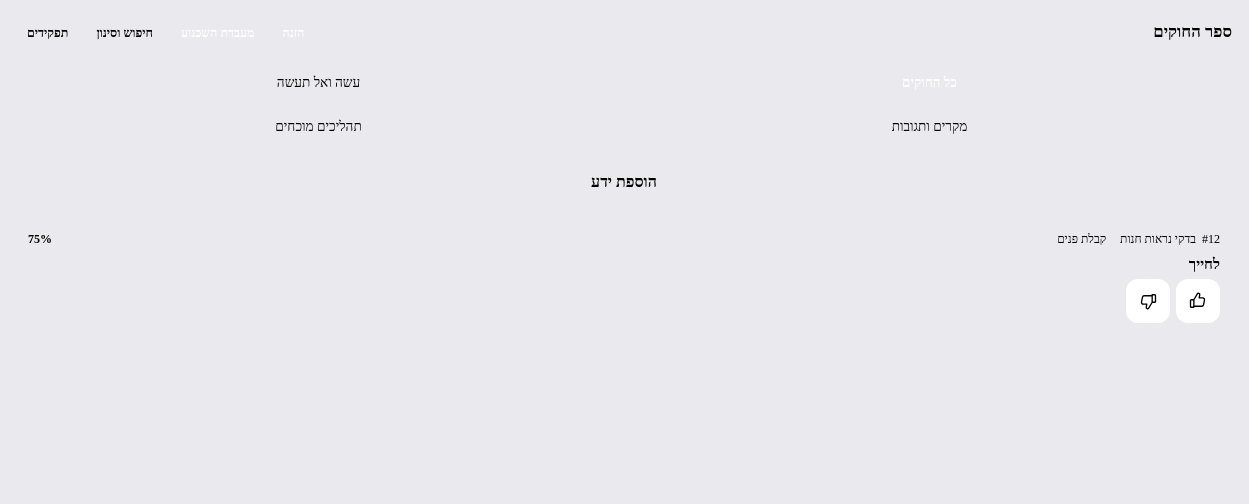
Scenario: what an owner gets on the same list › hides the owner filters on the views they cannot filter
The image size is (1249, 504).
Click the button "חיפוש וסינון". click: [125, 33]
box: [85,16,164,50]
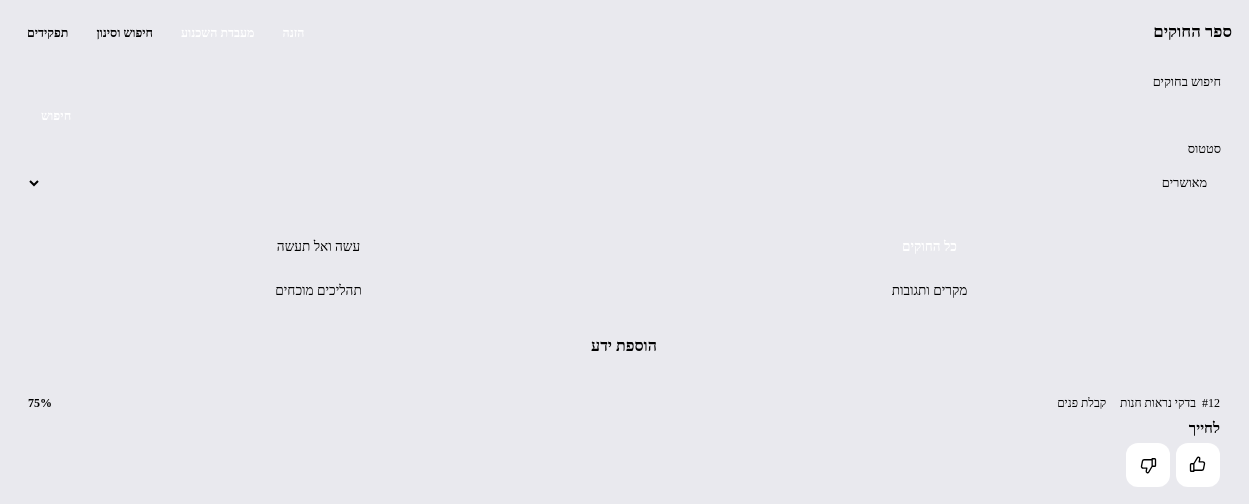
Click the tab "תהליכים מוכחים". click: [318, 291]
box: [16,272,621,310]
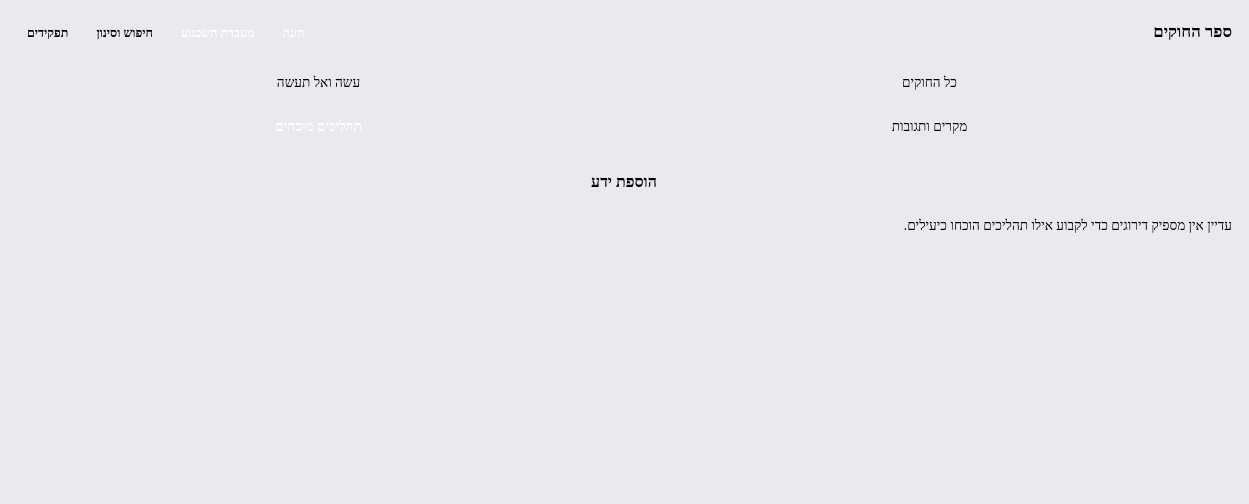
Expected: the label labelled "חיפוש בחוקים" is gone
